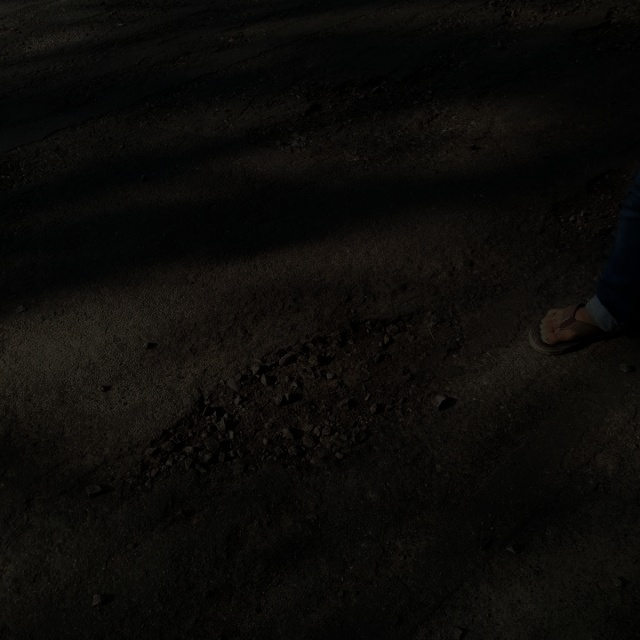Pothole: (129, 303, 443, 495), (299, 60, 456, 126), (548, 162, 630, 242), (489, 0, 607, 34), (573, 0, 640, 53)
